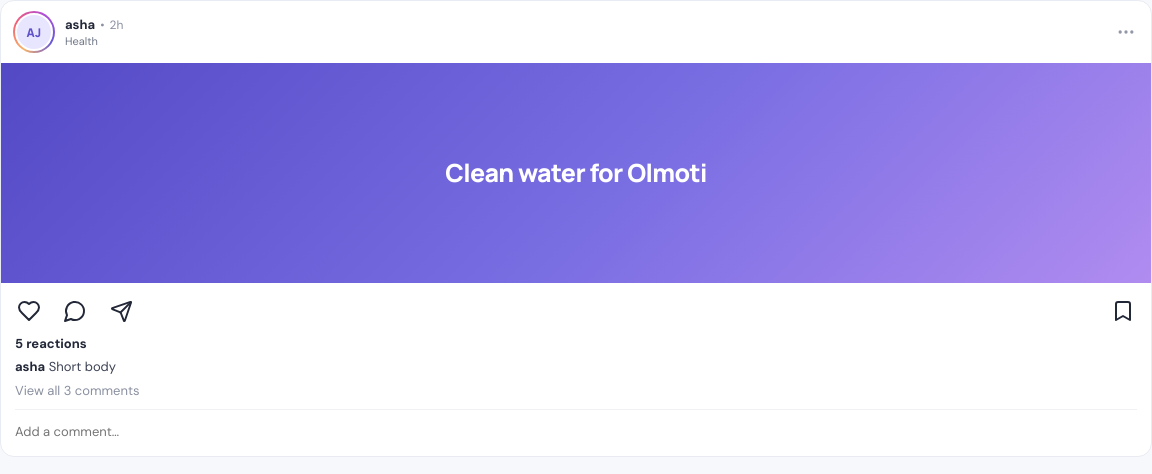
Test case: FeedPost › likes instantly and keeps the server count
The width and height of the screenshot is (1152, 474).
Click the button named "Like". click: [29, 311]
box: [9, 291, 49, 331]
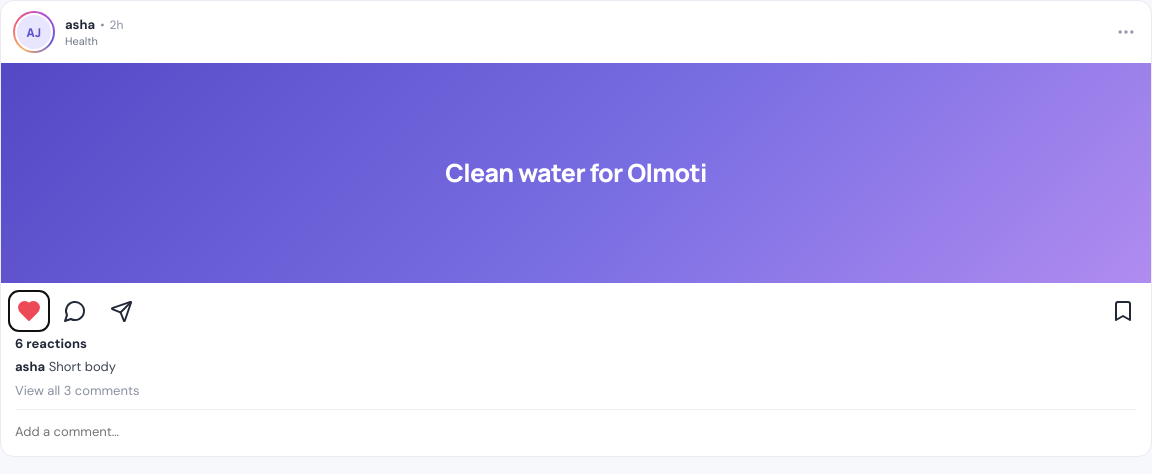
Expected: the text "6 reactions" is shown, [15, 335, 87, 352]
